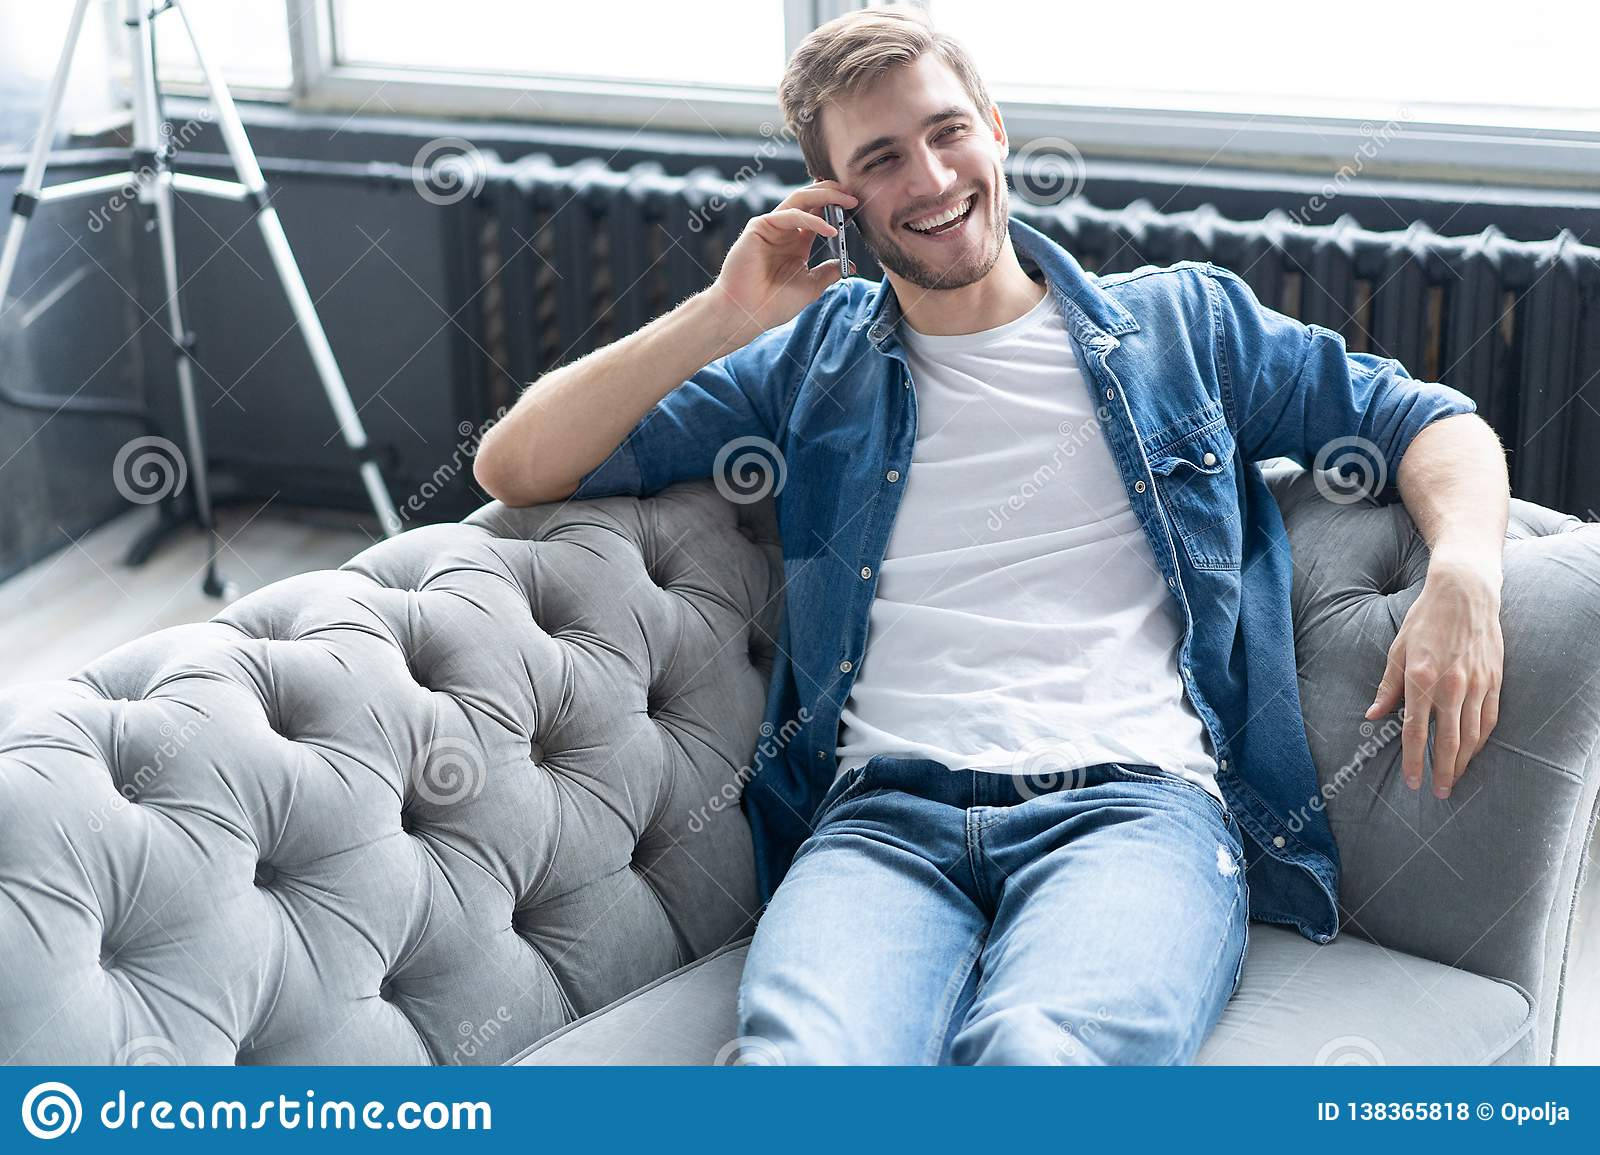phone: (812, 170, 853, 281)
talk: (711, 101, 996, 339)
